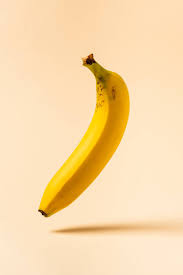banana: (28, 35, 131, 220)
